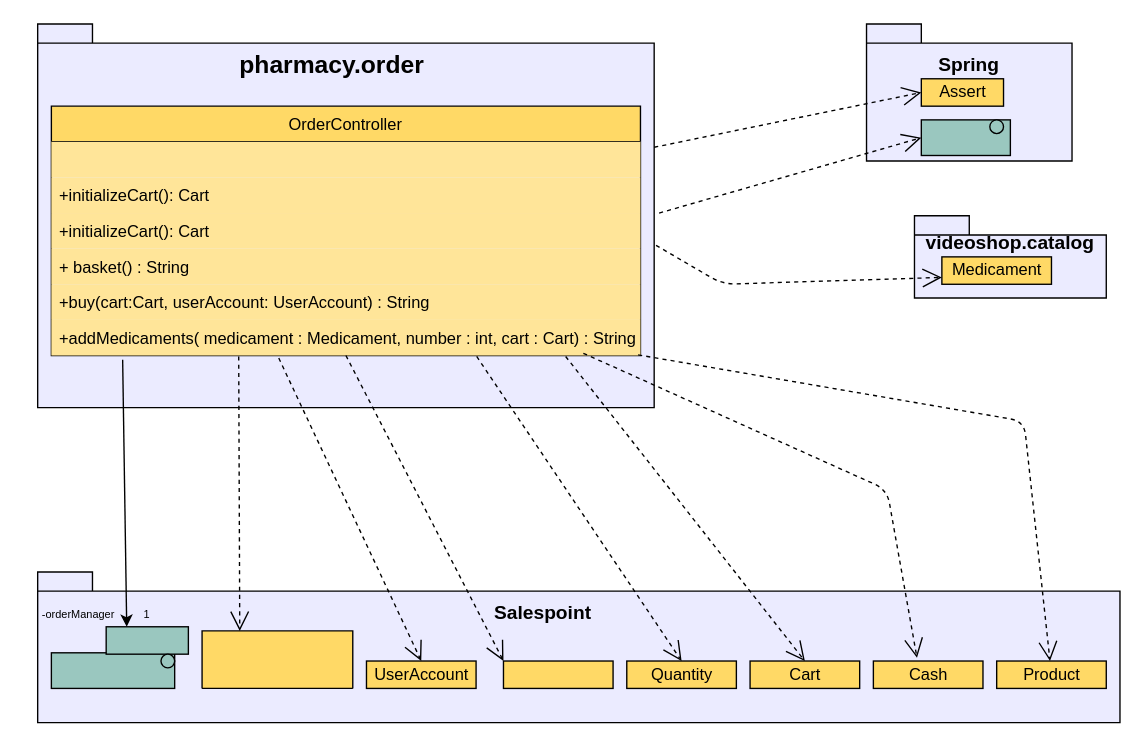
This 1144x747 diagram has some shape labels left out. Each missing label, with the centre of its shape:
"+OrderController(orderManager: orderManager)" belongs at point (345, 159).
"<<enumeration>> OrderStatus" belongs at point (277, 659).
"Model" belongs at point (965, 137).
"Order" belongs at point (557, 674).
"OrderManager" belongs at point (112, 669).
"T > Order" belongs at point (146, 639).
